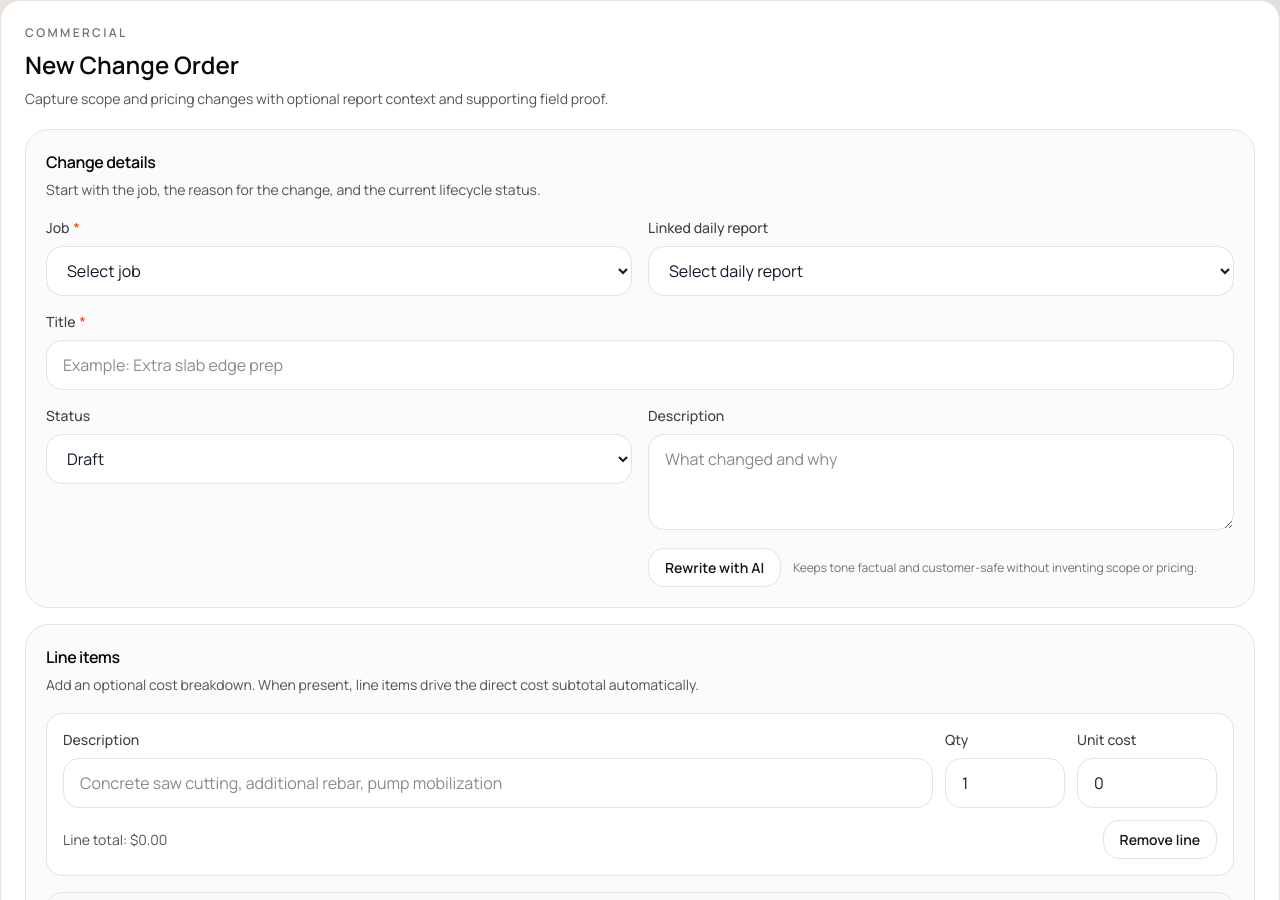
Test: ChangeOrderForm AI failure path › shows inline validation when Rewrite with AI is clicked with short description
The width and height of the screenshot is (1280, 900).
What coordinates should you click on to do the following:
click the button "Rewrite with AI"
I would click on:
 (715, 568)
Its box is left=648, top=548, right=781, bottom=587.
(page scrolled)
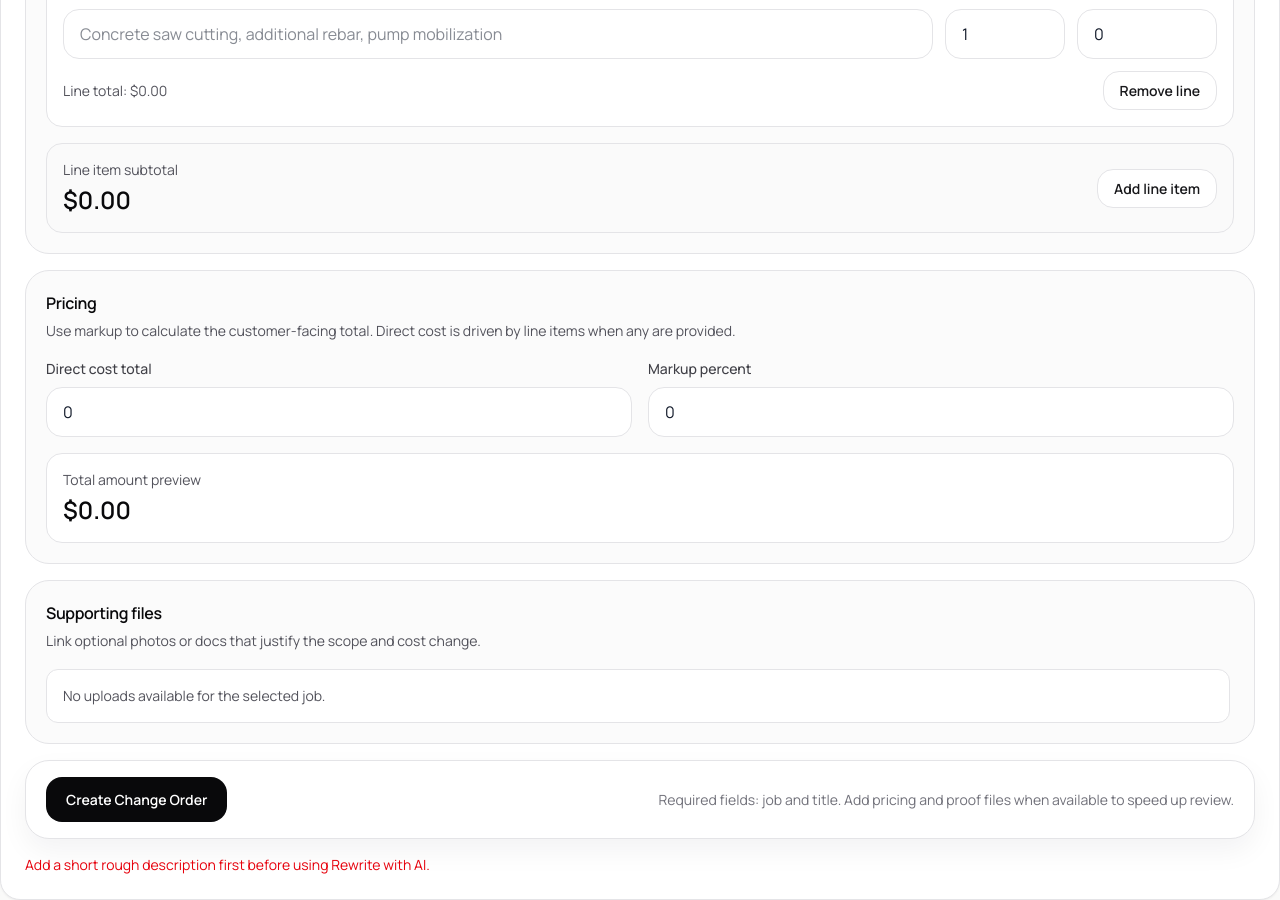
Now the text "Add a short rough description first before using Rewrite with AI." is shown, box left=25, top=855, right=430, bottom=874
